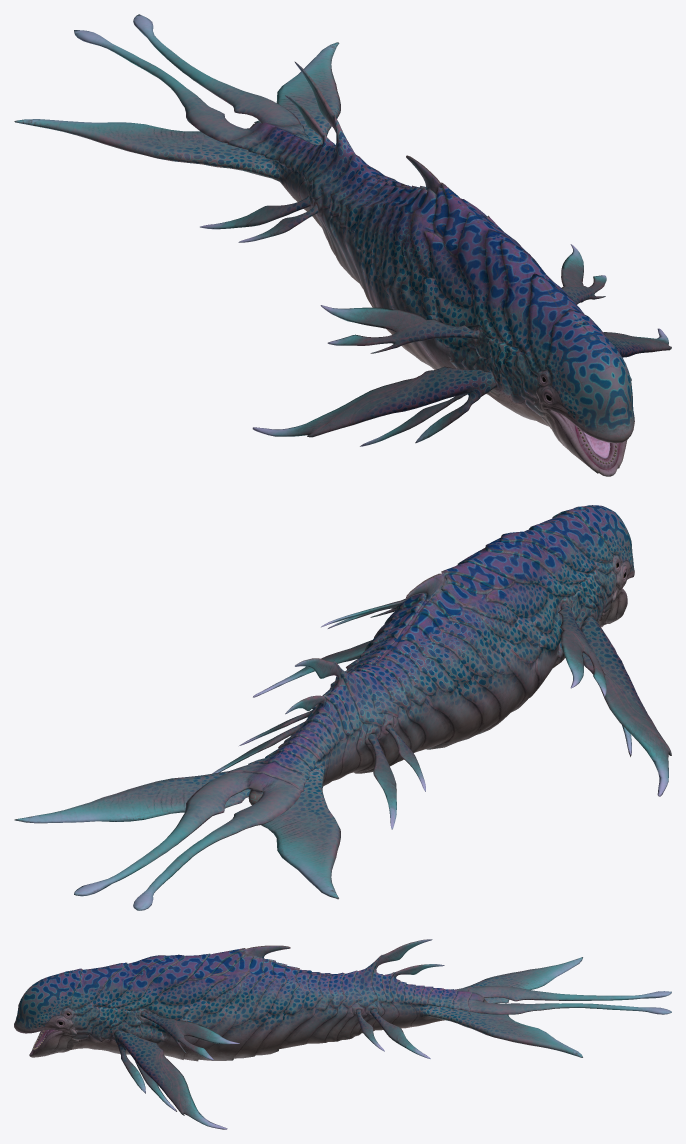
File: Space_Dolphinobj.obj
The picture shows the model from 3 angles, top to bottom: view 1: azimuth 30°, elevation 25°; view 2: azimuth 150°, elevation 25°; view 3: azimuth 270°, elevation 25°; orthographic projection. The views are drawn at different scales.
Parts seen in each view (by area): view 1: SK_spaceDolphin.001; view 2: SK_spaceDolphin.001; view 3: SK_spaceDolphin.001.
Part boxes in pixels (x1,y1,x2,y2): SK_spaceDolphin.001: (14,14,671,476); SK_spaceDolphin.001: (14,505,671,910); SK_spaceDolphin.001: (14,939,671,1129).
Size of the model in its own units: 128 by 61.85 by 282.
Materials: 1 (1 with a texture image).
